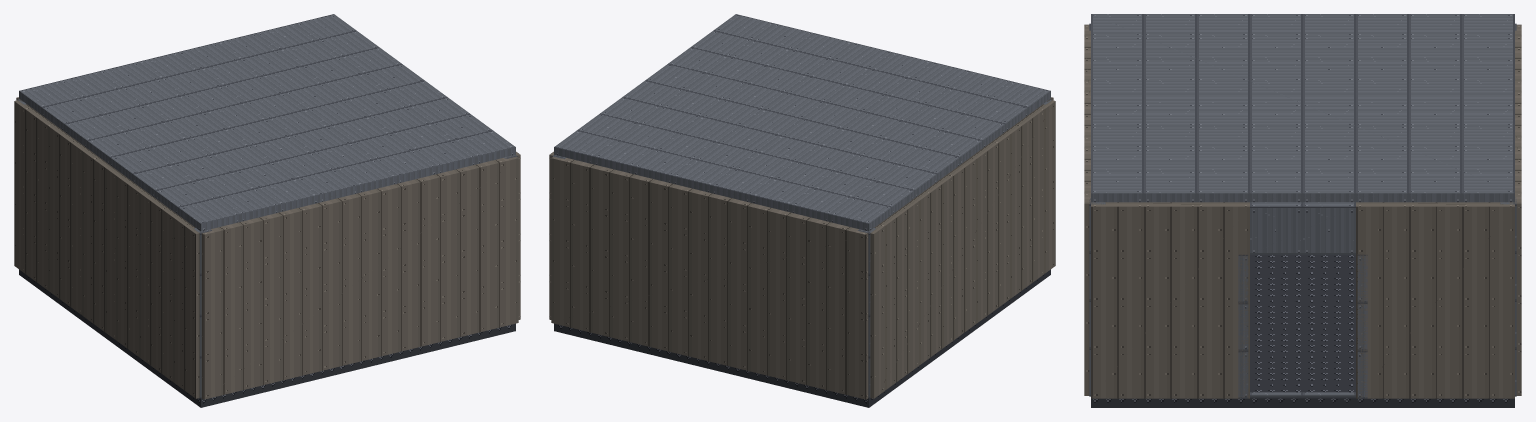
The model's file is elevator_car.obj.
3 renders of one model, left to right at view 1: azimuth 30°, elevation 25°; view 2: azimuth 150°, elevation 25°; view 3: azimuth 270°, elevation 25°, orthographic. The views are drawn at different scales.
Visible parts, largest first — view 1: Ceiling, Wall_S_back, Wall_W_back, Floor_Base, Post_-1_-1, Wall_E_b_back; view 2: Ceiling, Wall_N_back, Wall_W_back, Floor_Base, Post_-1_1, Wall_E_a_back; view 3: Ceiling, Wall_E_a_back, Wall_E_b_back, Floor_Frame, Wall_E_lintel, Floor_Base, Wall_N_back, Wall_S_back, DoorFrame_jambB, DoorFrame_jambA, DoorThreshold, Post_1_-1 (+1 smaller).
Part boxes in pixels (left/top/right/bottom): Ceiling: left=19, top=14, right=515, bottom=231; Wall_S_back: left=201, top=156, right=518, bottom=399; Wall_W_back: left=14, top=100, right=199, bottom=398; Floor_Base: left=19, top=269, right=515, bottom=407; Post_-1_-1: left=193, top=228, right=211, bottom=398; Wall_E_b_back: left=510, top=151, right=520, bottom=319; Ceiling: left=554, top=14, right=1050, bottom=231; Wall_N_back: left=551, top=156, right=868, bottom=399; Wall_W_back: left=870, top=100, right=1055, bottom=398; Floor_Base: left=554, top=269, right=1050, bottom=407; Post_-1_1: left=857, top=228, right=875, bottom=398; Wall_E_a_back: left=549, top=151, right=553, bottom=319; Ceiling: left=1091, top=14, right=1514, bottom=202; Wall_E_a_back: left=1356, top=202, right=1514, bottom=398; Wall_E_b_back: left=1091, top=202, right=1249, bottom=398; Floor_Frame: left=1250, top=254, right=1355, bottom=392; Wall_E_lintel: left=1250, top=202, right=1355, bottom=254; Floor_Base: left=1091, top=398, right=1514, bottom=407; Wall_N_back: left=1508, top=24, right=1521, bottom=395; Wall_S_back: left=1084, top=24, right=1097, bottom=395; DoorFrame_jambB: left=1238, top=254, right=1248, bottom=398; DoorFrame_jambA: left=1357, top=254, right=1367, bottom=398; DoorThreshold: left=1250, top=392, right=1355, bottom=398; Post_1_-1: left=1089, top=198, right=1105, bottom=396.
Bounding box in the file's own units: 8.25 × 4.47 × 8.25.
5 materials, 4 textured.
